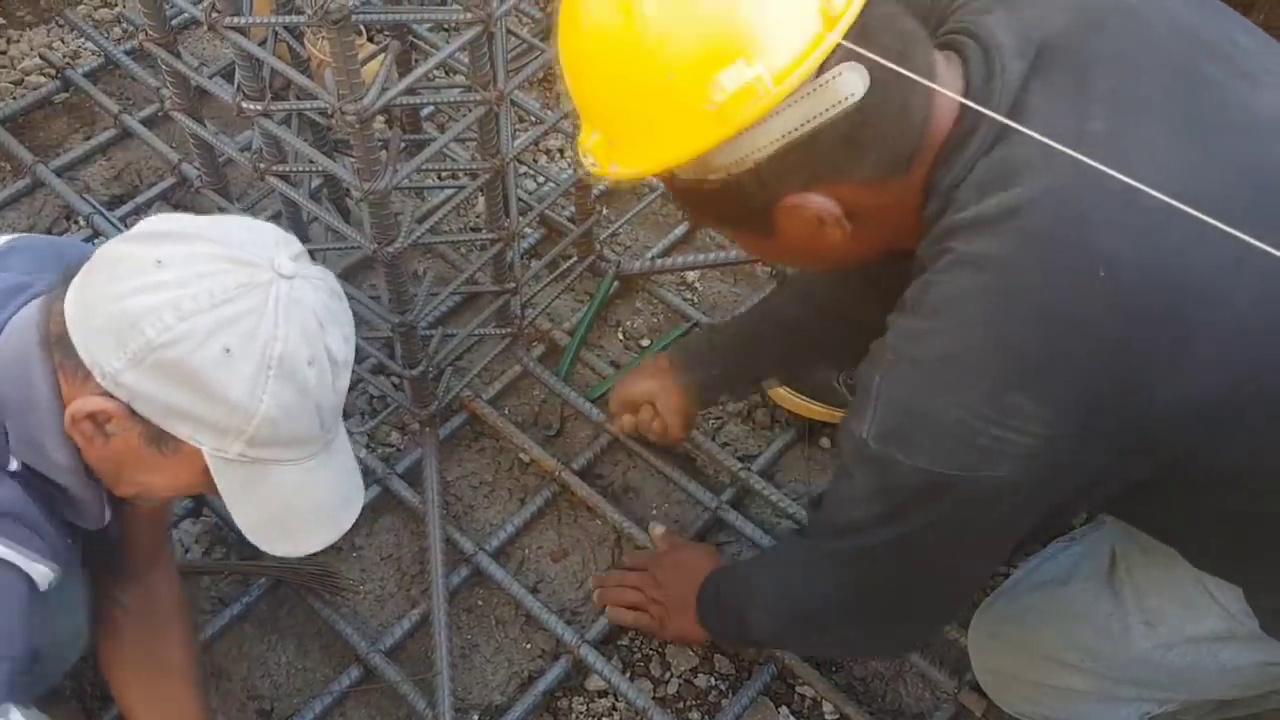helmet: (544, 0, 867, 198)
helmet-off: (33, 207, 355, 548)
helmet-on: (541, 0, 981, 287)
person: (538, 0, 1280, 720), (0, 199, 363, 719)
